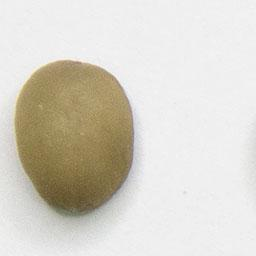premium: (11, 56, 139, 217)
